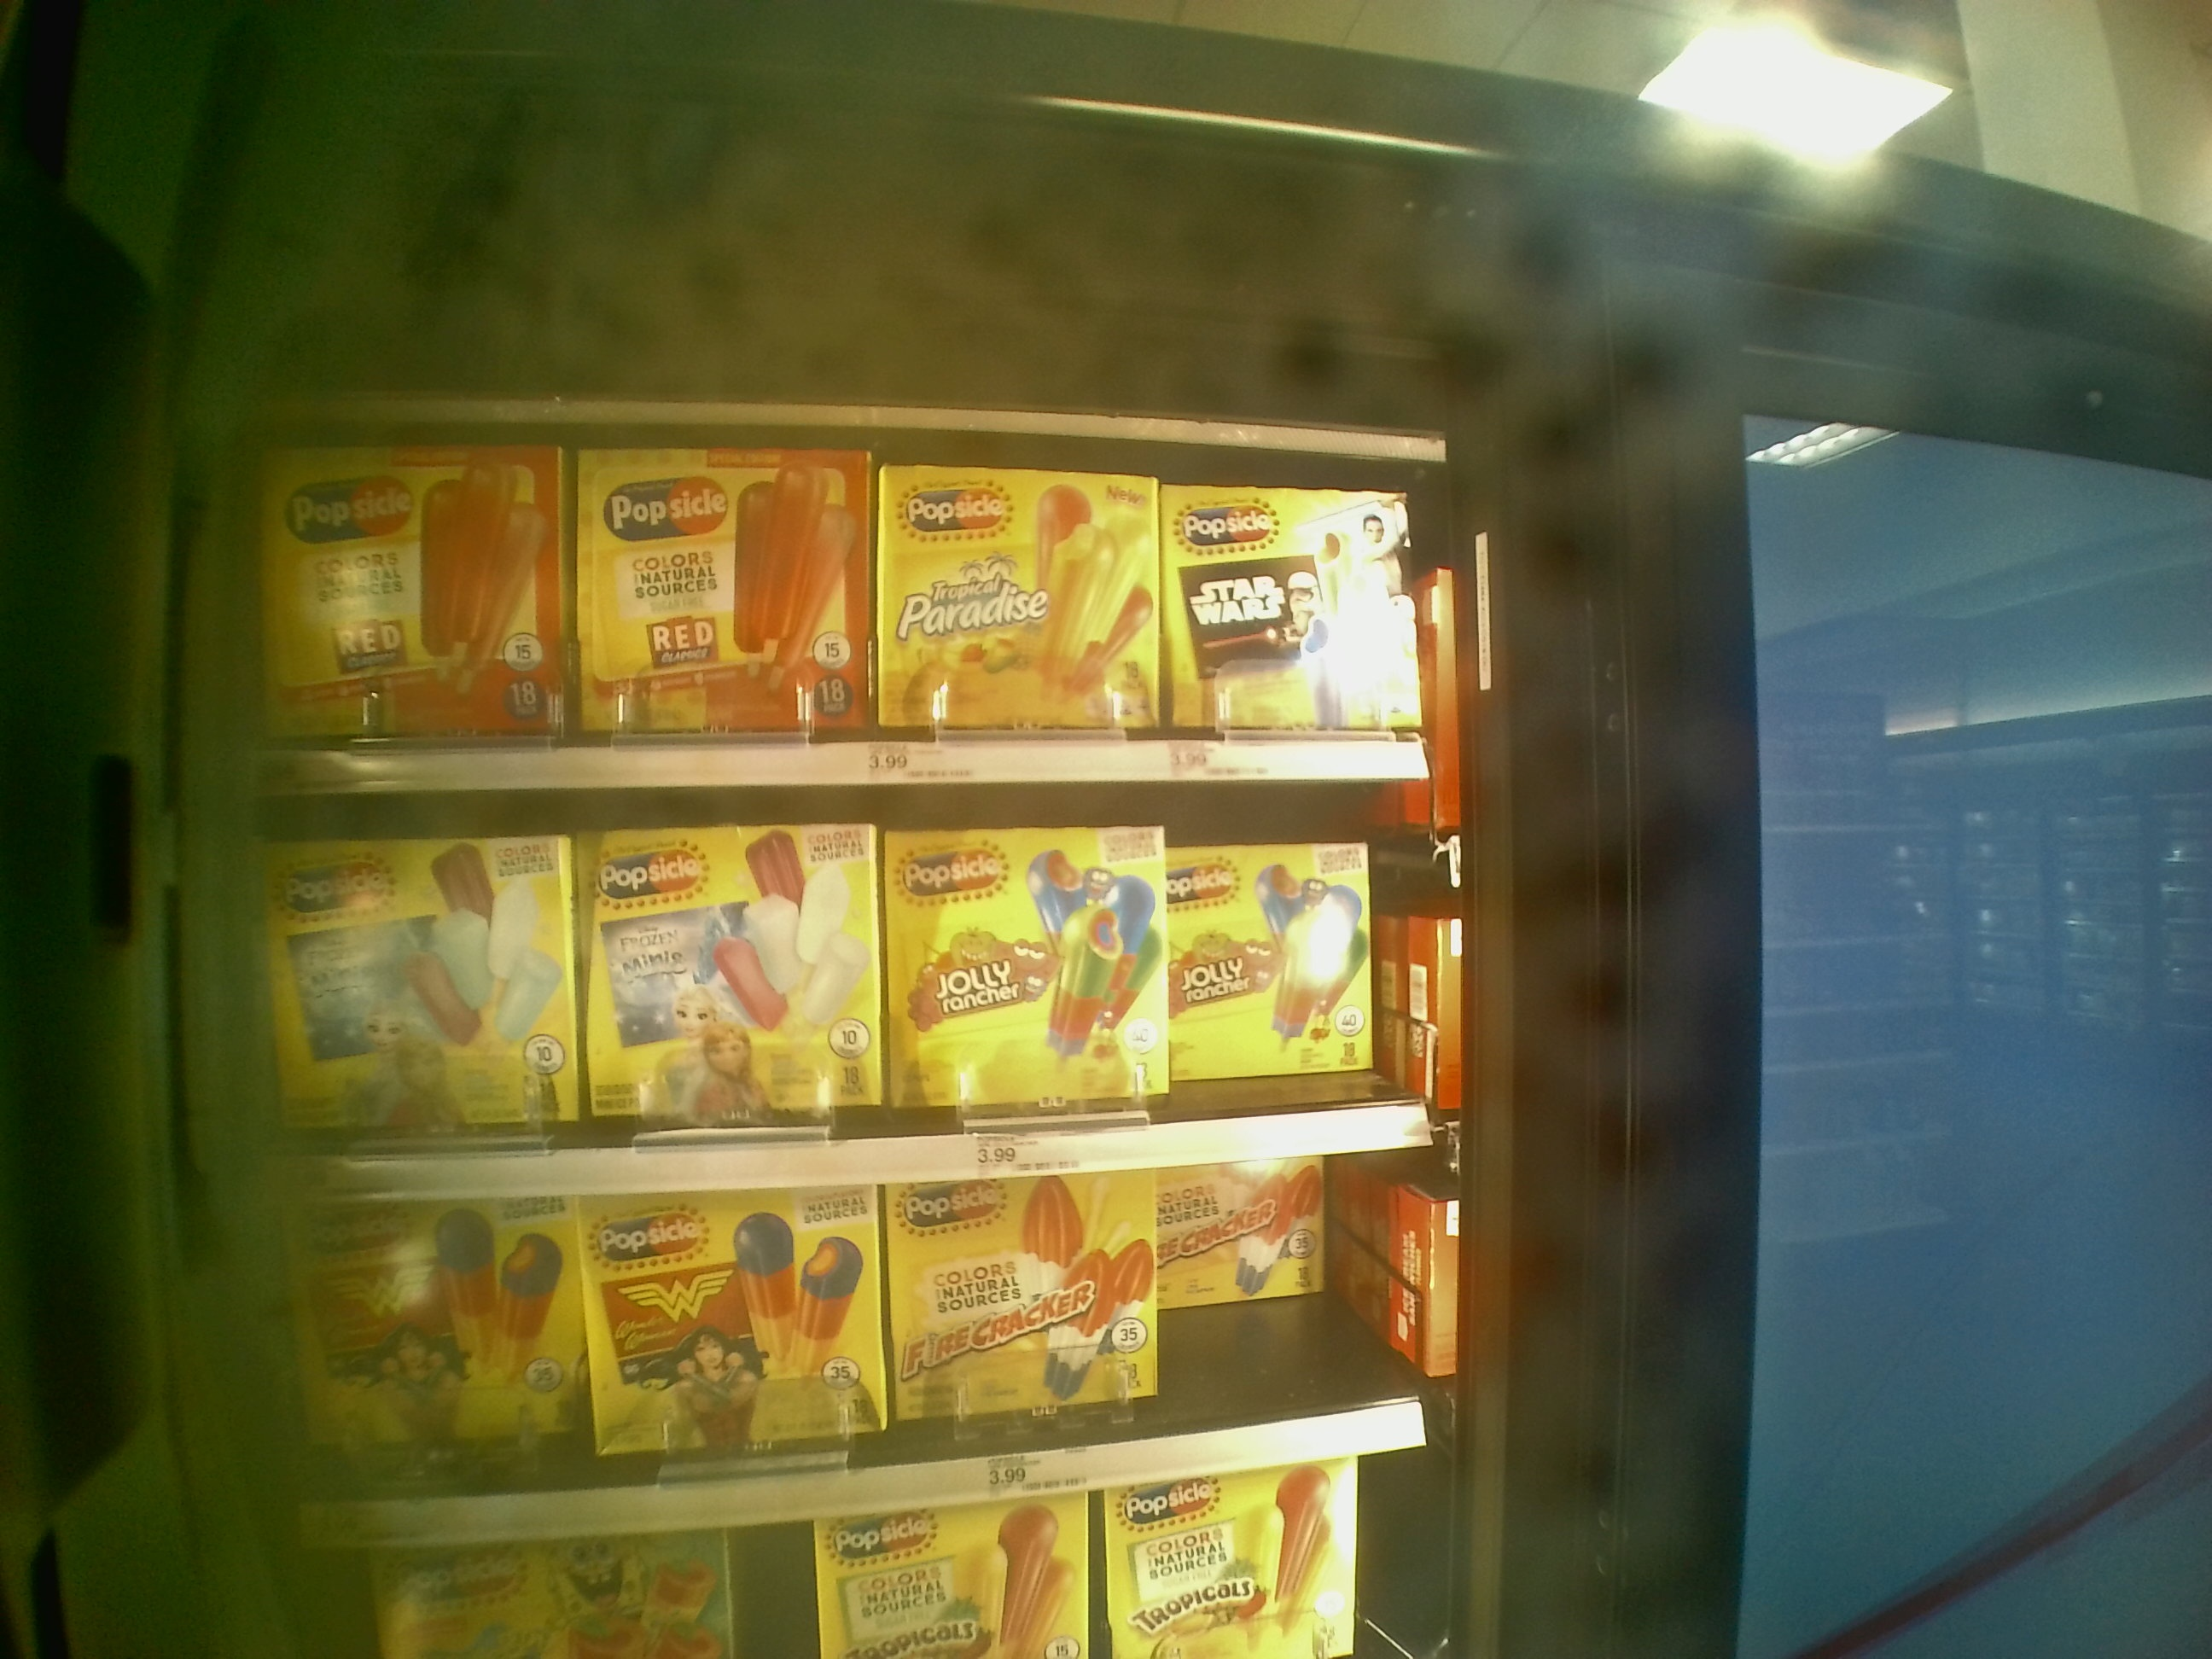shelf: (244, 397, 1435, 788), (272, 1159, 1461, 1539), (251, 782, 1456, 1154)
